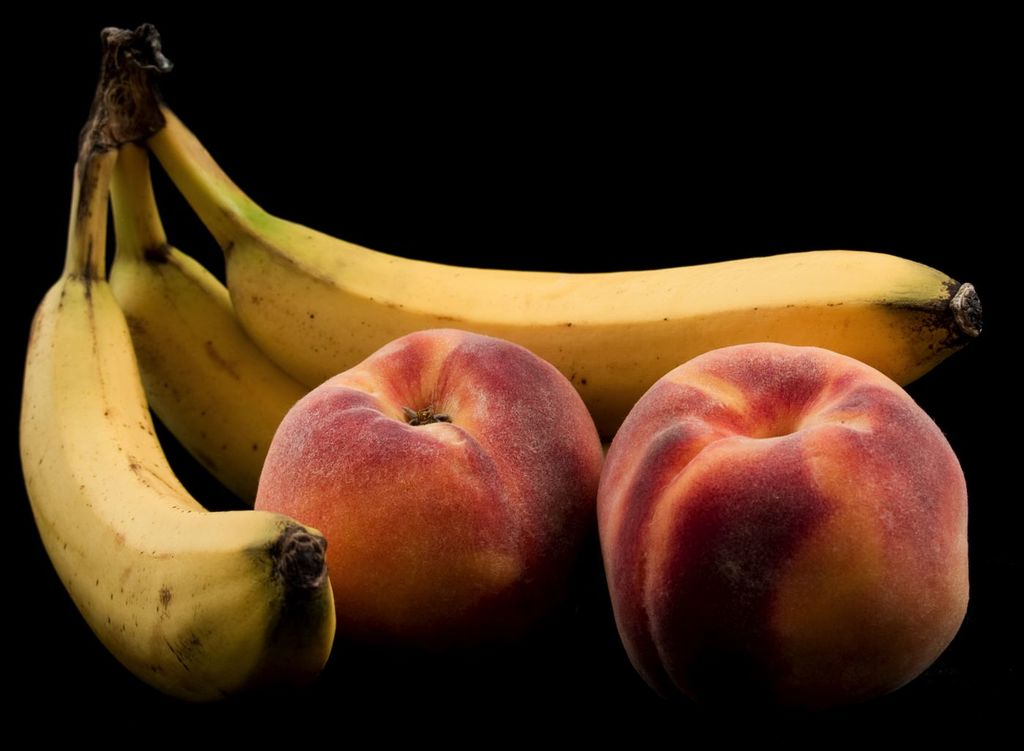Apple: (590, 346, 977, 723), (255, 327, 603, 636)
